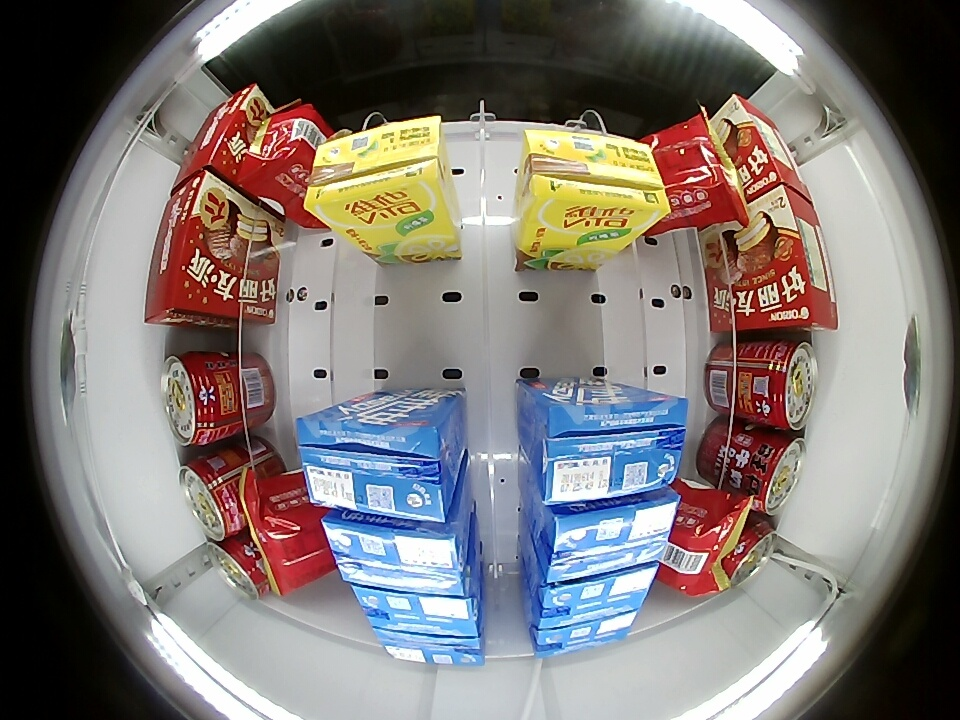haoliyou: (729, 184, 837, 328), (146, 171, 247, 324), (714, 94, 811, 201), (176, 85, 266, 187)
kaomo_shaokao: (237, 103, 331, 229), (642, 118, 741, 233), (243, 468, 335, 591), (662, 491, 738, 597)
wangzainiunai: (739, 339, 818, 431), (162, 353, 238, 446), (730, 431, 807, 517), (179, 453, 250, 542), (204, 534, 277, 602), (722, 517, 778, 589)
weitanai: (296, 401, 459, 523), (528, 383, 689, 506), (533, 489, 681, 584), (320, 511, 475, 597), (527, 563, 660, 630), (351, 583, 485, 638), (371, 625, 487, 667), (529, 612, 637, 657)
weitaningmeng: (521, 126, 667, 237), (306, 116, 446, 223)
